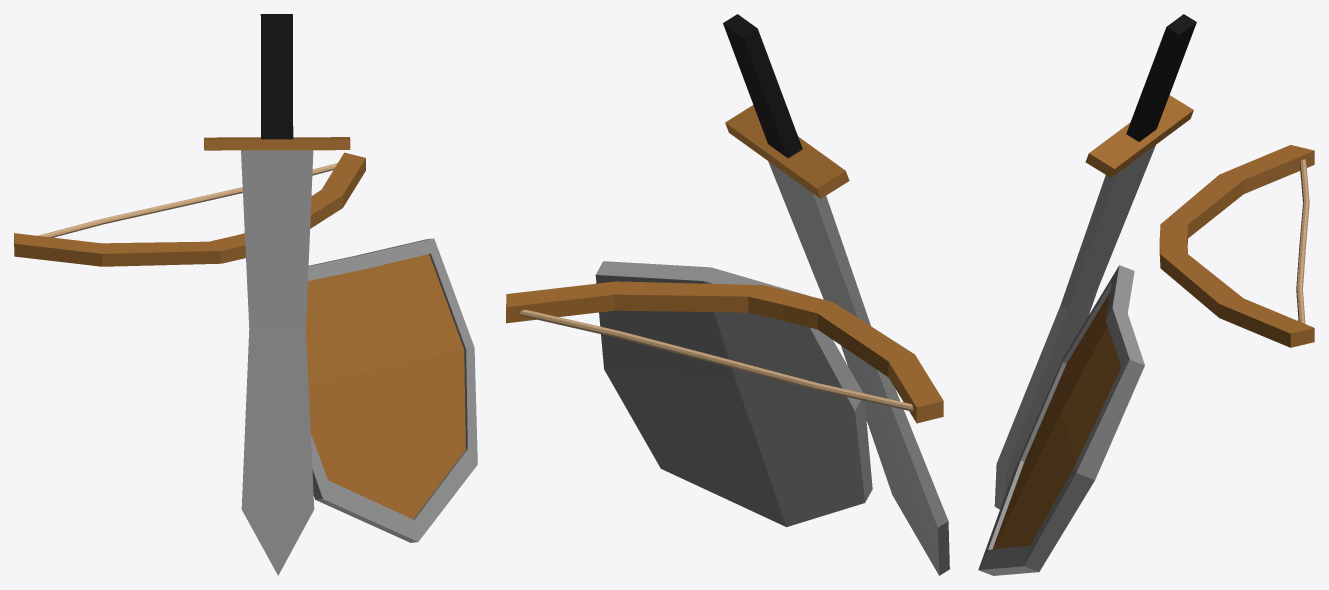
Rendered from offobjects_armoryfix.fbx.
3 renders of one model, left to right at view 1: azimuth 30°, elevation 25°; view 2: azimuth 150°, elevation 25°; view 3: azimuth 270°, elevation 25°, orthographic. The views are drawn at different scales.
Visible parts, largest first — view 1: arrow_line.001; view 2: arrow_line.001; view 3: arrow_line.001.
Part boxes in pixels (left/top/right/bottom): arrow_line.001: left=14, top=14, right=477, bottom=575; arrow_line.001: left=506, top=14, right=949, bottom=575; arrow_line.001: left=978, top=14, right=1314, bottom=575.
Size of the model in its own units: 274 by 349 by 200.
